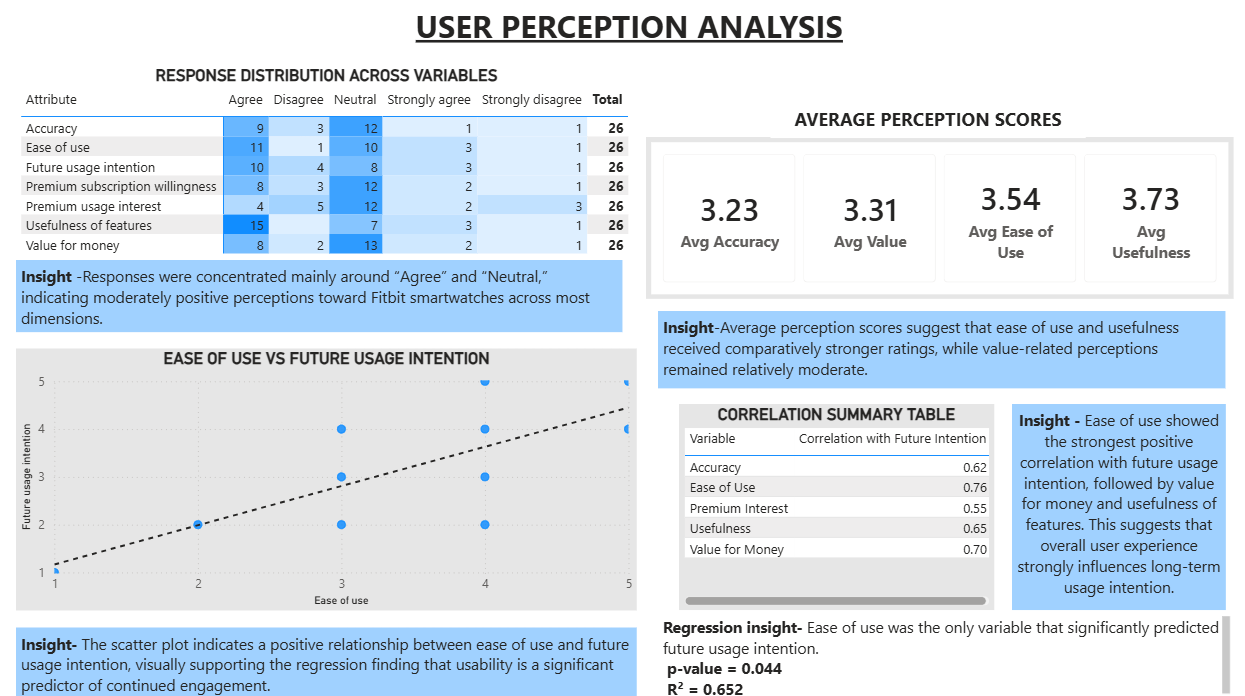

The page's visual inventory and layout, read from the dashboard file:
{"tool":"powerbi","page":{"name":"Page 2","canvas":[1280,720],"ordinal":1},"visuals":[{"type":"pivotTable","title":"RESPONSE DISTRIBUTION ACROSS VARIABLES","fields":{"Rows":["Matrix Table.Attribute"],"Columns":["Matrix Table.Value"],"Values":["CountNonNull(Matrix Table.Value)"]},"box":[18.9,68,636.9,200.3],"z":0},{"type":"scatterChart","title":"EASE OF USE VS FUTURE USAGE INTENTION","fields":{"X":["Form_Responses.Ease of use"],"Y":["Form_Responses.Future usage intention"]},"box":[18.9,359.1,636.9,268.3],"z":1000},{"type":"tableEx","title":"CORRELATION SUMMARY TABLE","fields":{"Values":["Correlation_Result.Variable","Correlation_Result.Correlation with Future Intention"]},"box":[699.2,415.8,323.2,211.7],"z":2000},{"type":"textbox","box":[423.3,0,481.9,68],"z":3000},{"type":"textbox","box":[18.9,644.4,636.9,75.6],"z":4000},{"type":"cardVisual","fields":{"Data":["DAX measures.Avg Accuracy","DAX measures.Avg Value","DAX measures.Avg Ease of Use","DAX measures.Avg Usefulness"]},"box":[665.2,141.7,602.8,166.3],"z":5000},{"type":"textbox","box":[791.8,103.9,323.2,37.8],"z":6000},{"type":"textbox","box":[18.9,268.3,621.7,73.7],"z":7000},{"type":"textbox","box":[676.5,319.4,582.1,79.4],"z":8000},{"type":"textbox","box":[1039.4,415.8,219.2,211.7],"z":9000},{"type":"textbox","box":[676.5,627.4,591.5,92.6],"z":10000}]}

Visuals, with their boxes in screenshot pixels (x1, y1, x2, y2), scaled from the page's 1280x720 canvas onto the 1245x696 screenshot:
"RESPONSE DISTRIBUTION ACROSS VARIABLES" pivotTable: box=[18, 66, 638, 259]
"EASE OF USE VS FUTURE USAGE INTENTION" scatterChart: box=[18, 347, 638, 606]
"CORRELATION SUMMARY TABLE" tableEx: box=[680, 402, 994, 607]
textbox: box=[412, 0, 880, 66]
textbox: box=[18, 623, 638, 695]
cardVisual - DAX measures.Avg Accuracy x DAX measures.Avg Value: box=[647, 137, 1233, 298]
textbox: box=[770, 100, 1085, 137]
textbox: box=[18, 259, 623, 331]
textbox: box=[658, 309, 1224, 386]
textbox: box=[1011, 402, 1224, 607]
textbox: box=[658, 606, 1233, 695]
